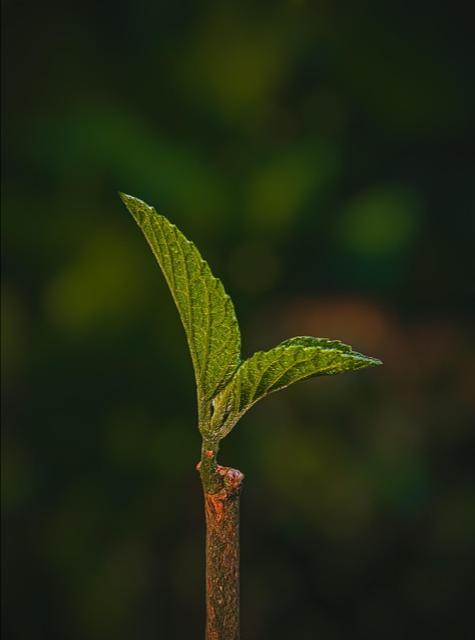Non_Gorille: (93, 132, 383, 621)
